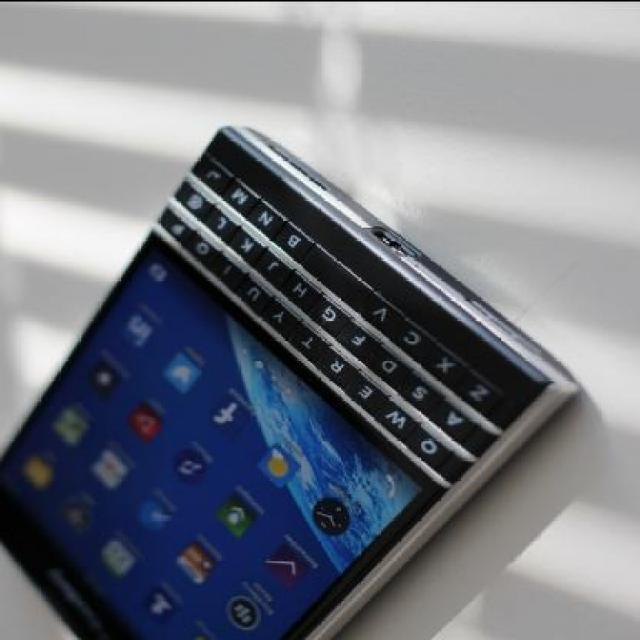phone: (0, 126, 582, 640)
